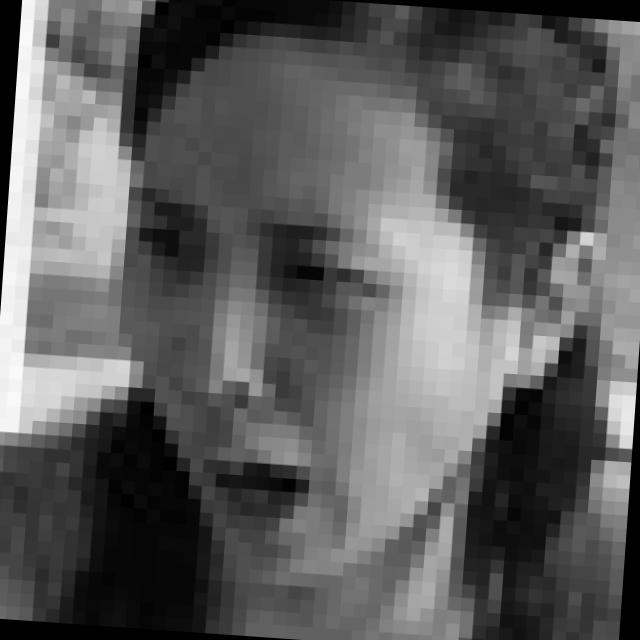disgust: (110, 180, 400, 542)
